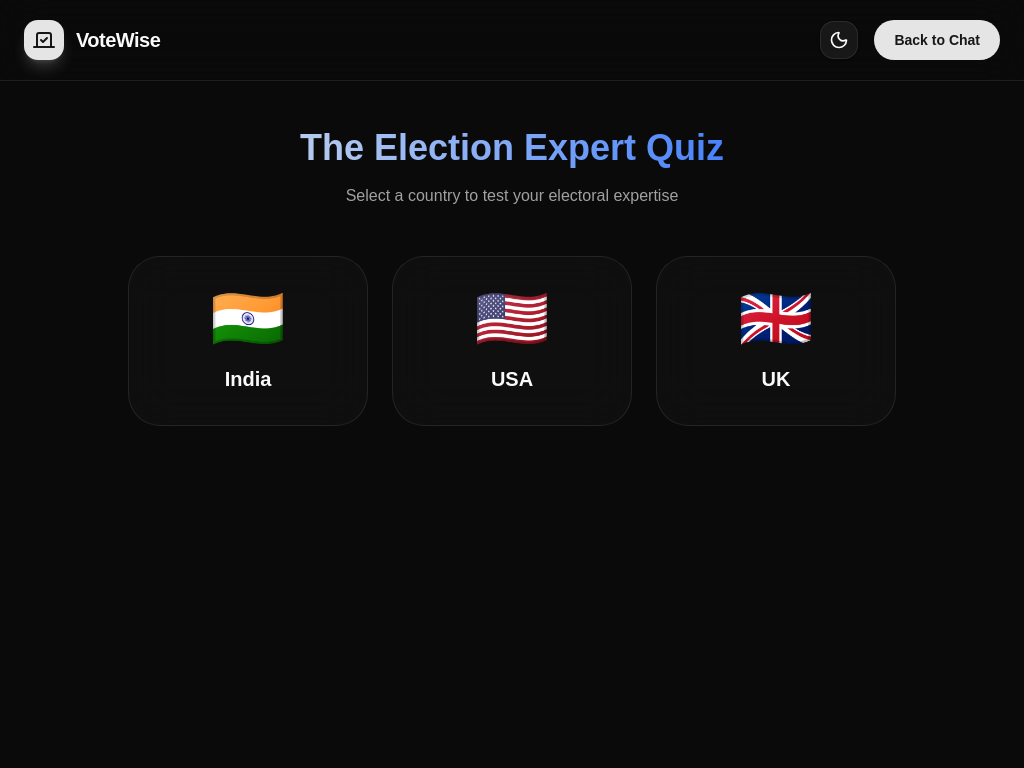
Test: QuizPage › shows explanation when option is selected
Click the button "🇮🇳 India".
click(248, 341)  # box 128,256 -> 368,426
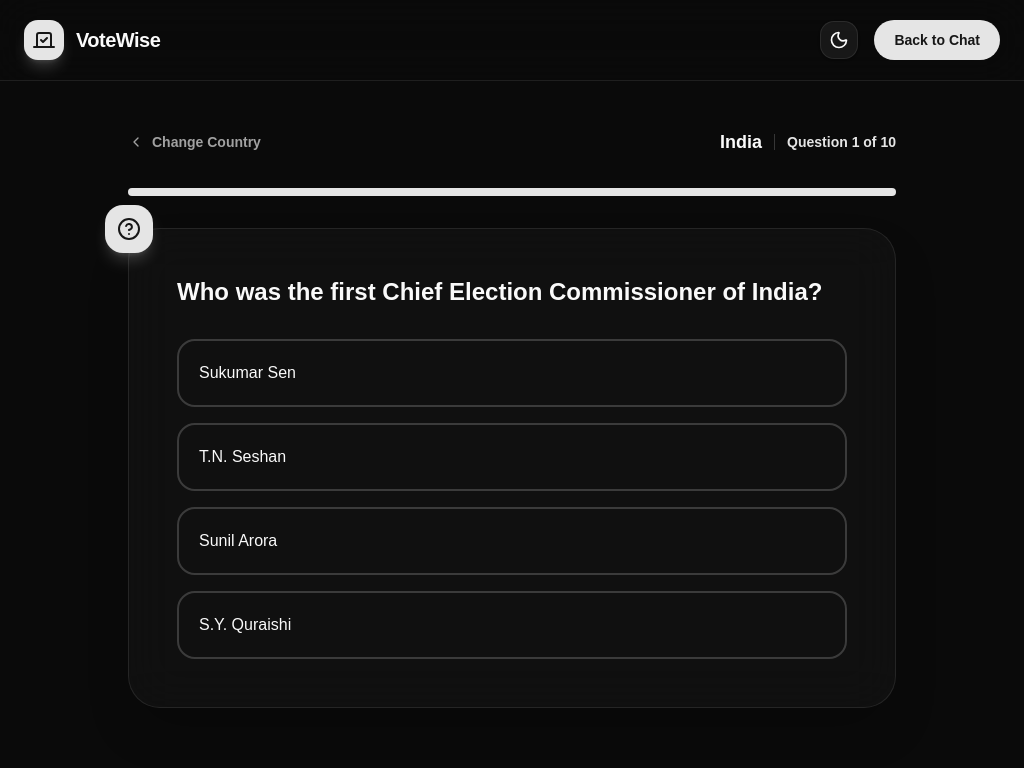
Click the radio button "Sukumar Sen".
click(247, 372)  # box 177,339 -> 847,407
(page scrolled)
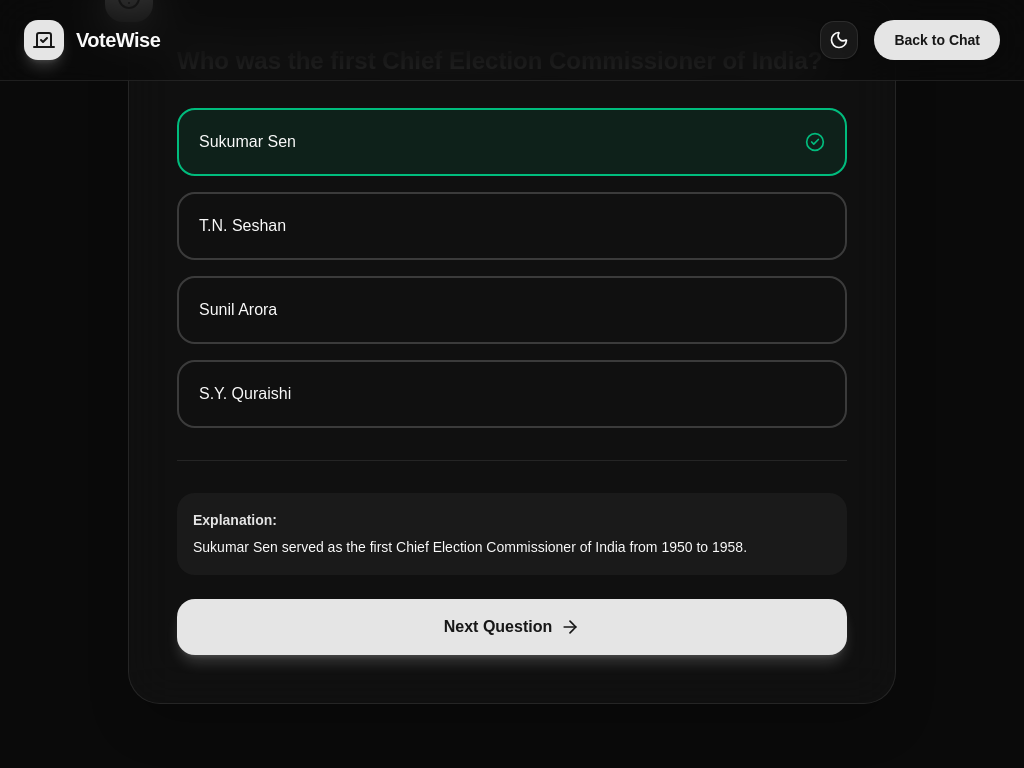
Result: the text "Explanation:" is shown at 193,512 -> 277,528
Result: the text "Sukumar Sen served as the first Chief" is shown at 193,539 -> 747,555
